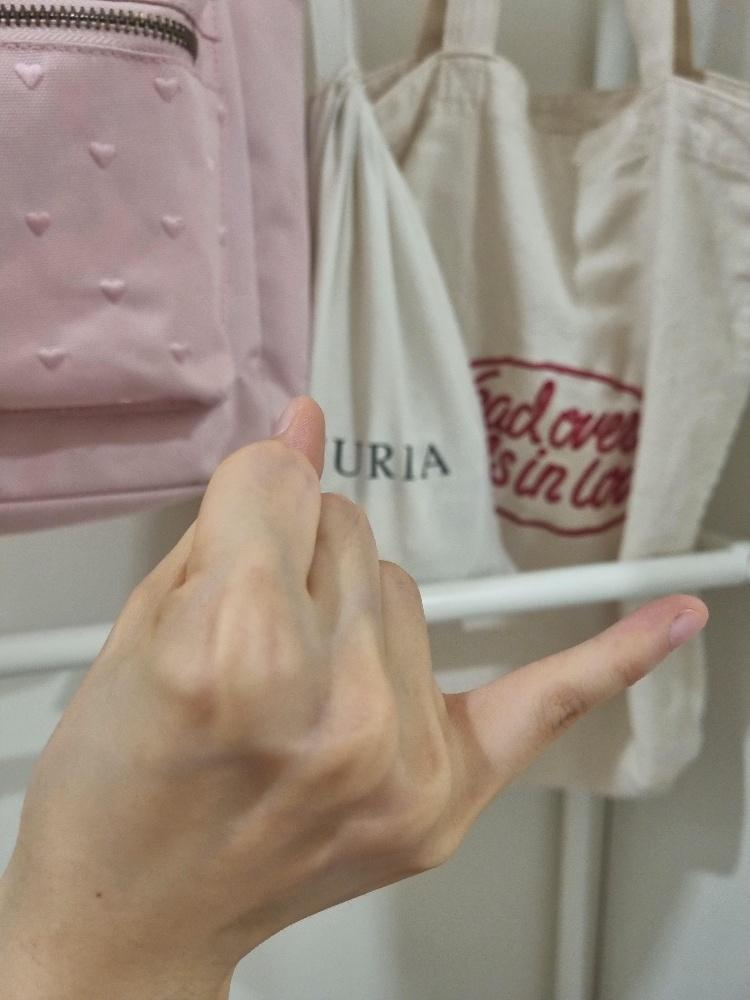j: (33, 394, 708, 945)
